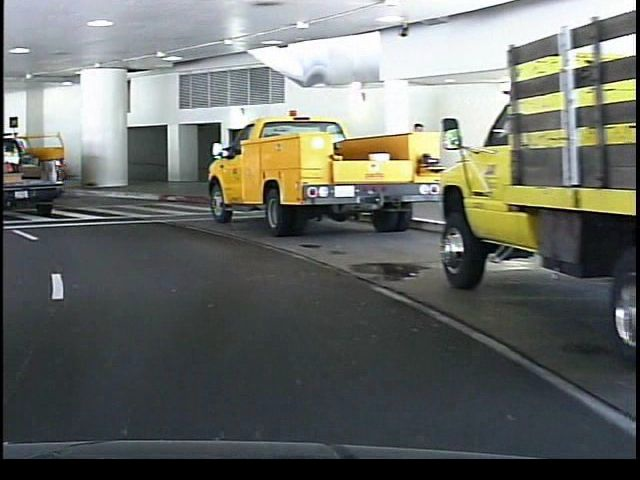person: (402, 118, 432, 209)
